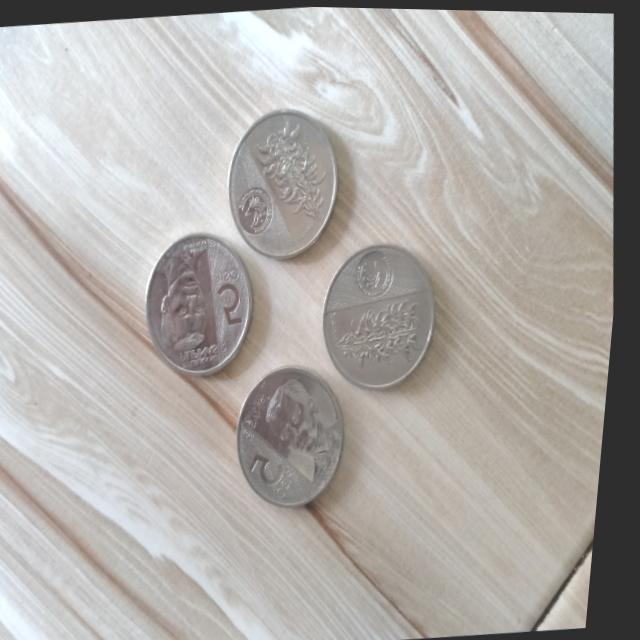5_New_Back: (241, 110, 339, 231), (326, 279, 434, 372)
5_New_Front: (247, 440, 315, 509), (210, 246, 263, 333)
